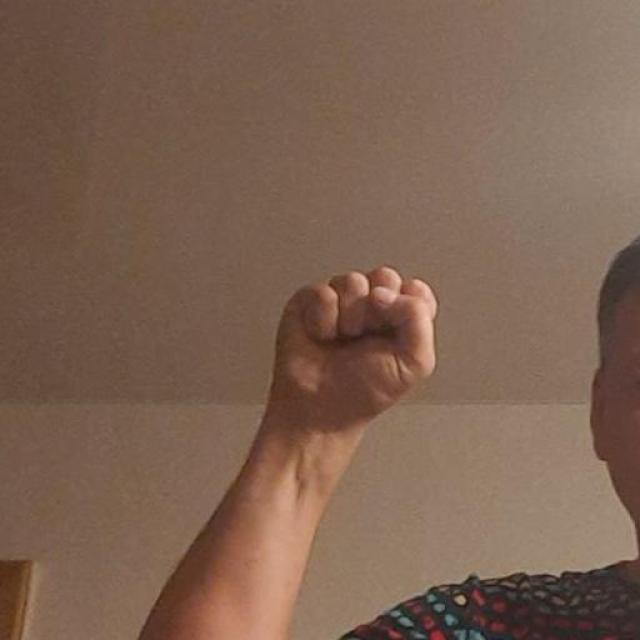hand: (261, 264, 440, 440)
